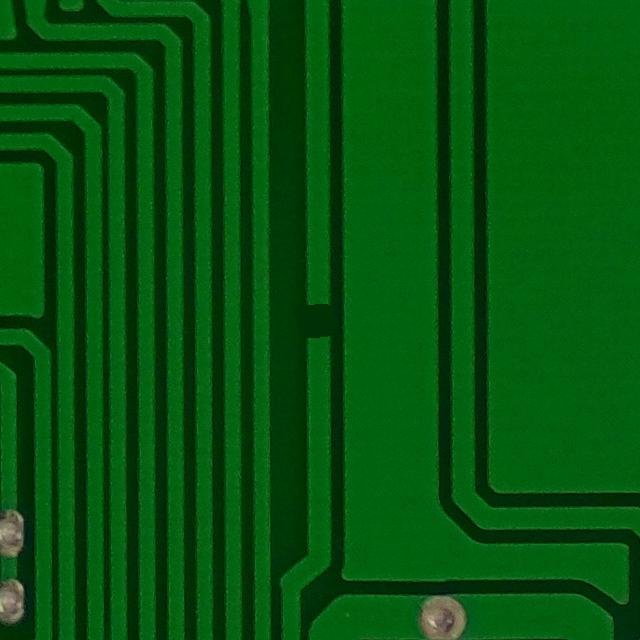open_circuit: (299, 285, 342, 356)
